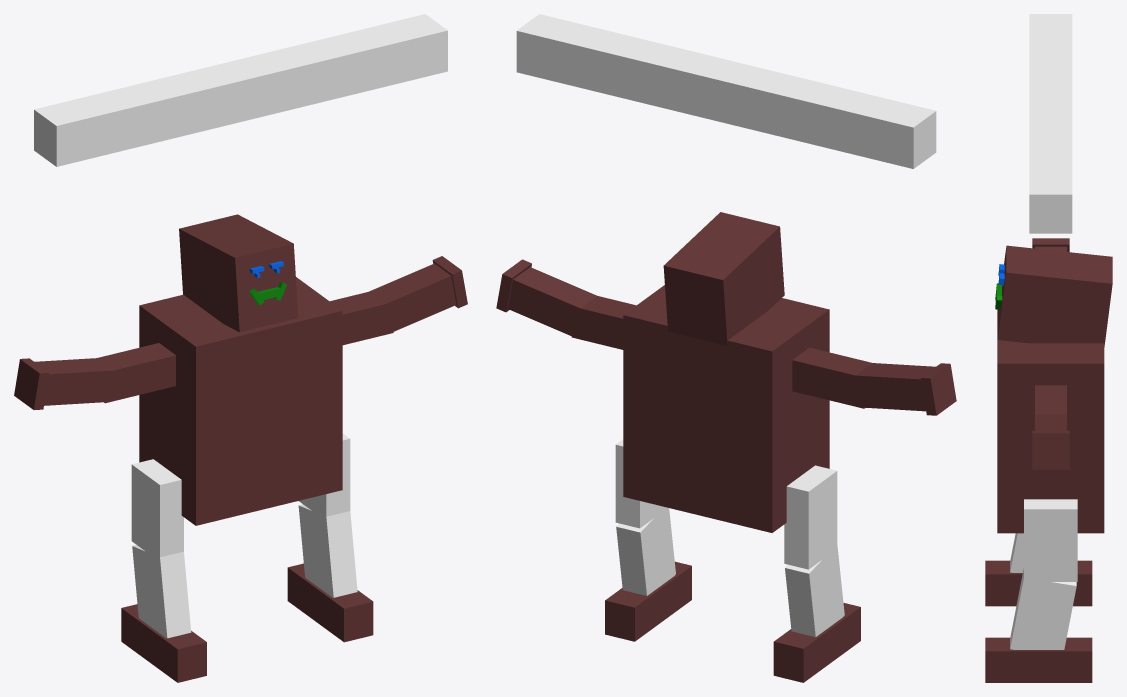
File: Player 1.fbx
The picture shows the model from 3 angles, left to right: view 1: azimuth 30°, elevation 25°; view 2: azimuth 150°, elevation 25°; view 3: azimuth 270°, elevation 25°; orthographic projection. The views are drawn at different scales.
Visible parts, largest first — view 1: BodyMesh, Cube, Head, UpperRightLegMesh, RightKneeMesh, LeftKneeMesh, LeftFootMesh, RightFootMesh, LeftElbowMesh, RightUpperArmMesh, RightElbowMesh, LeftUpperArmMesh (+3 smaller); view 2: BodyMesh, Cube, Head, UpperRightLegMesh, RightKneeMesh, LeftKneeMesh, RightFootMesh, LeftFootMesh, RightUpperArmMesh, LeftElbowMesh, RightElbowMesh, LeftUpperArmMesh (+3 smaller); view 3: BodyMesh, Head, Cube, UpperLeftLegMesh, LeftFootMesh, LeftKneeMesh, RightFootMesh, LeftWristMesh, LeftUpperArmMesh, LeftElbowMesh, RightKneeMesh, RightWristMesh.
Boxes of the visible parts, x1,y1,x2,y2 form: BodyMesh: (139,277,342,525); Cube: (34,14,447,166); Head: (179,214,298,332); UpperRightLegMesh: (131,459,183,561); RightKneeMesh: (132,545,191,638); LeftKneeMesh: (298,504,357,597); LeftFootMesh: (287,563,373,642); RightFootMesh: (121,604,206,682); LeftElbowMesh: (368,263,456,331); RightUpperArmMesh: (97,343,175,403); RightElbowMesh: (34,358,113,405); LeftUpperArmMesh: (330,292,393,345); BodyMesh: (623,285,829,532); Cube: (516,14,936,168); Head: (663,212,784,345); UpperRightLegMesh: (784,465,837,569); RightKneeMesh: (785,546,844,637); LeftKneeMesh: (616,508,675,595); RightFootMesh: (773,603,860,682); LeftFootMesh: (605,561,691,641); RightUpperArmMesh: (792,347,871,408); LeftElbowMesh: (508,267,596,335); RightElbowMesh: (854,363,935,411); LeftUpperArmMesh: (571,296,636,349); BodyMesh: (997,309,1104,533); Head: (997,245,1112,346); Cube: (1029,14,1072,233); UpperLeftLegMesh: (1024,499,1077,581); LeftFootMesh: (985,637,1092,682); LeftKneeMesh: (1010,568,1076,649); RightFootMesh: (985,560,1092,606); LeftWristMesh: (1032,430,1069,469); LeftUpperArmMesh: (1035,385,1066,414); LeftElbowMesh: (1035,414,1066,430); RightKneeMesh: (1010,533,1023,572); RightWristMesh: (1032,238,1069,252).
Size of the model in its own units: 444 by 550 by 119.
